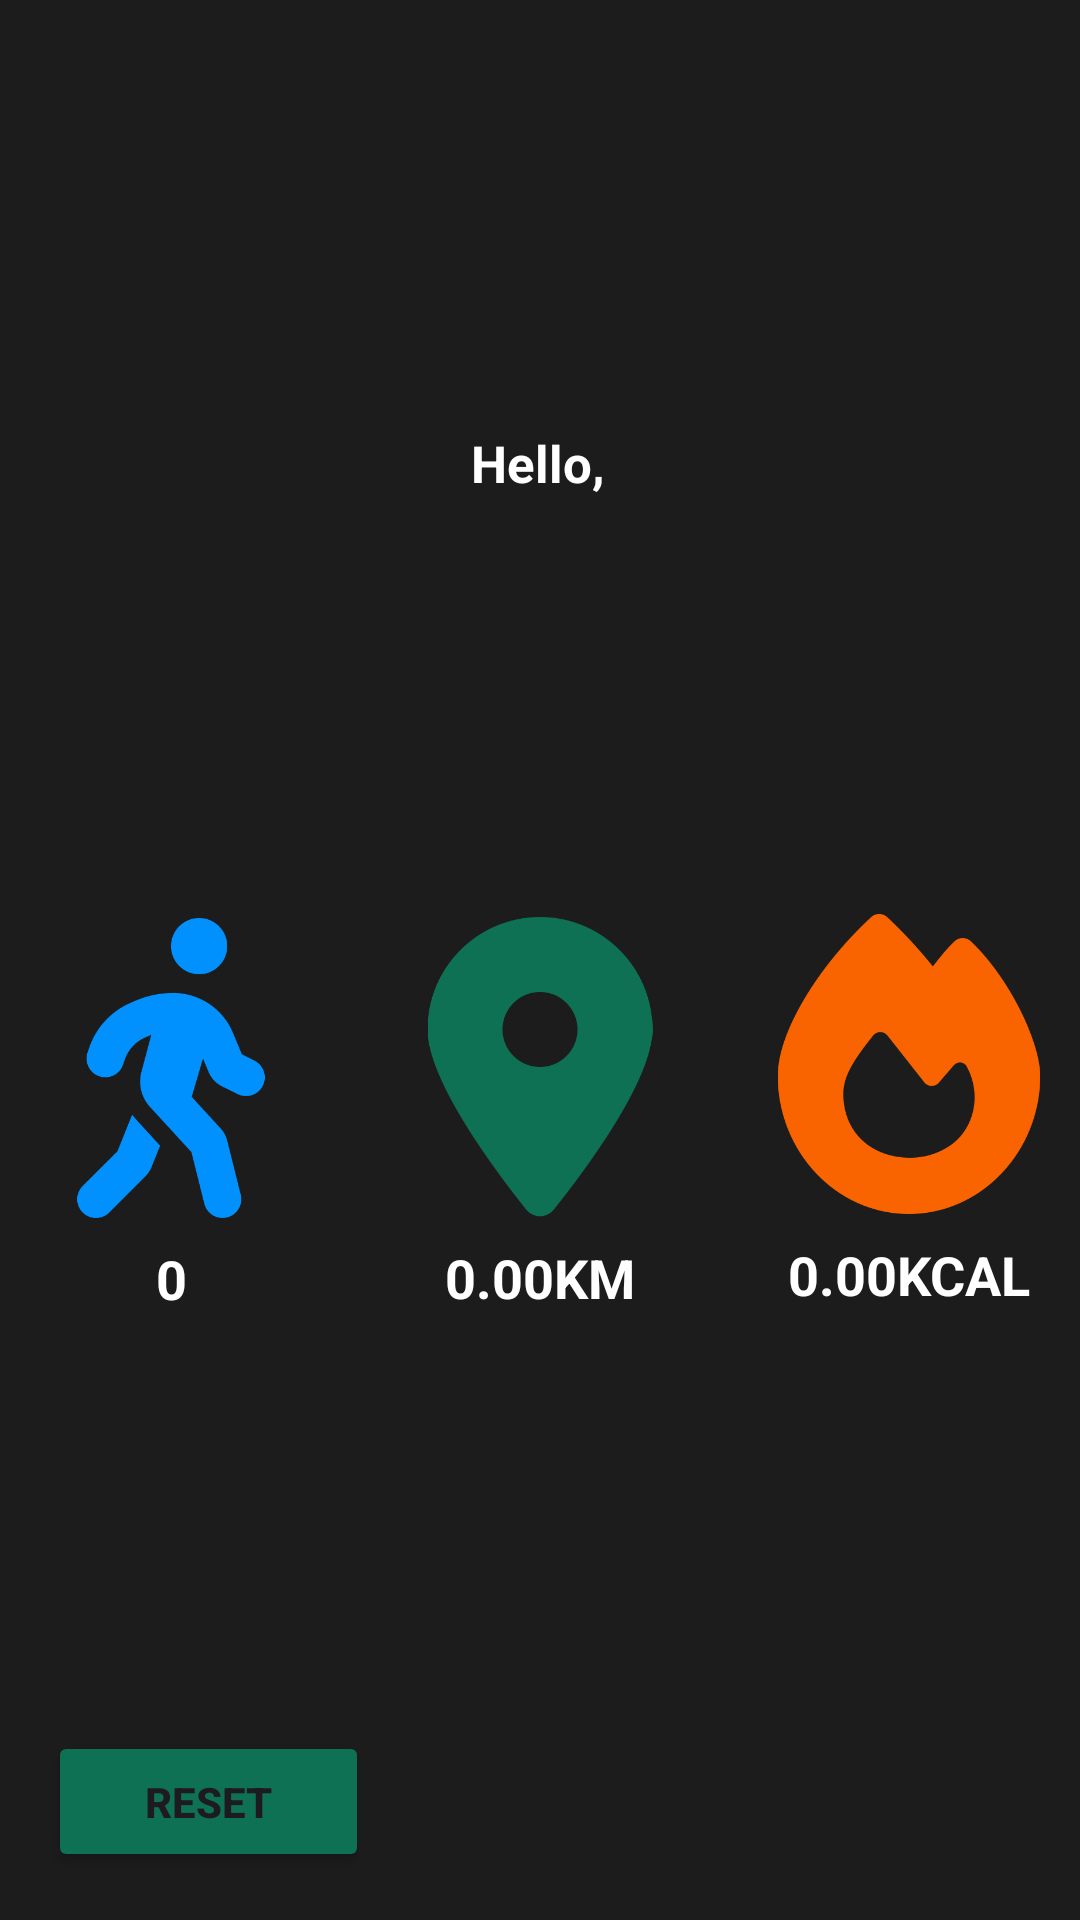

Screen size 1080 × 1920. Icon name, then its box in pixels as (x1, y1, x2, y2):
fire: (778, 914, 1040, 1214)
location dot: (428, 917, 653, 1216)
person walking: (77, 918, 265, 1218)
